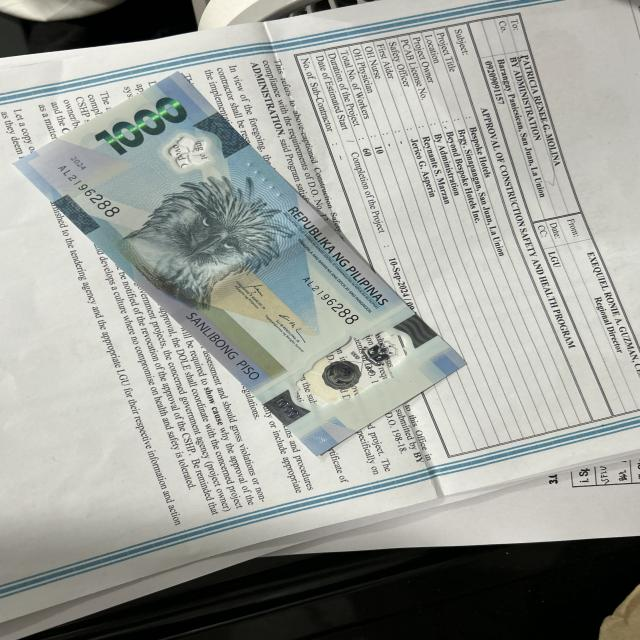clear_window: (282, 327, 412, 412)
eagle: (126, 182, 254, 298)
sampaguita: (155, 133, 222, 168)
serial_number: (52, 156, 127, 223), (296, 270, 368, 328)
